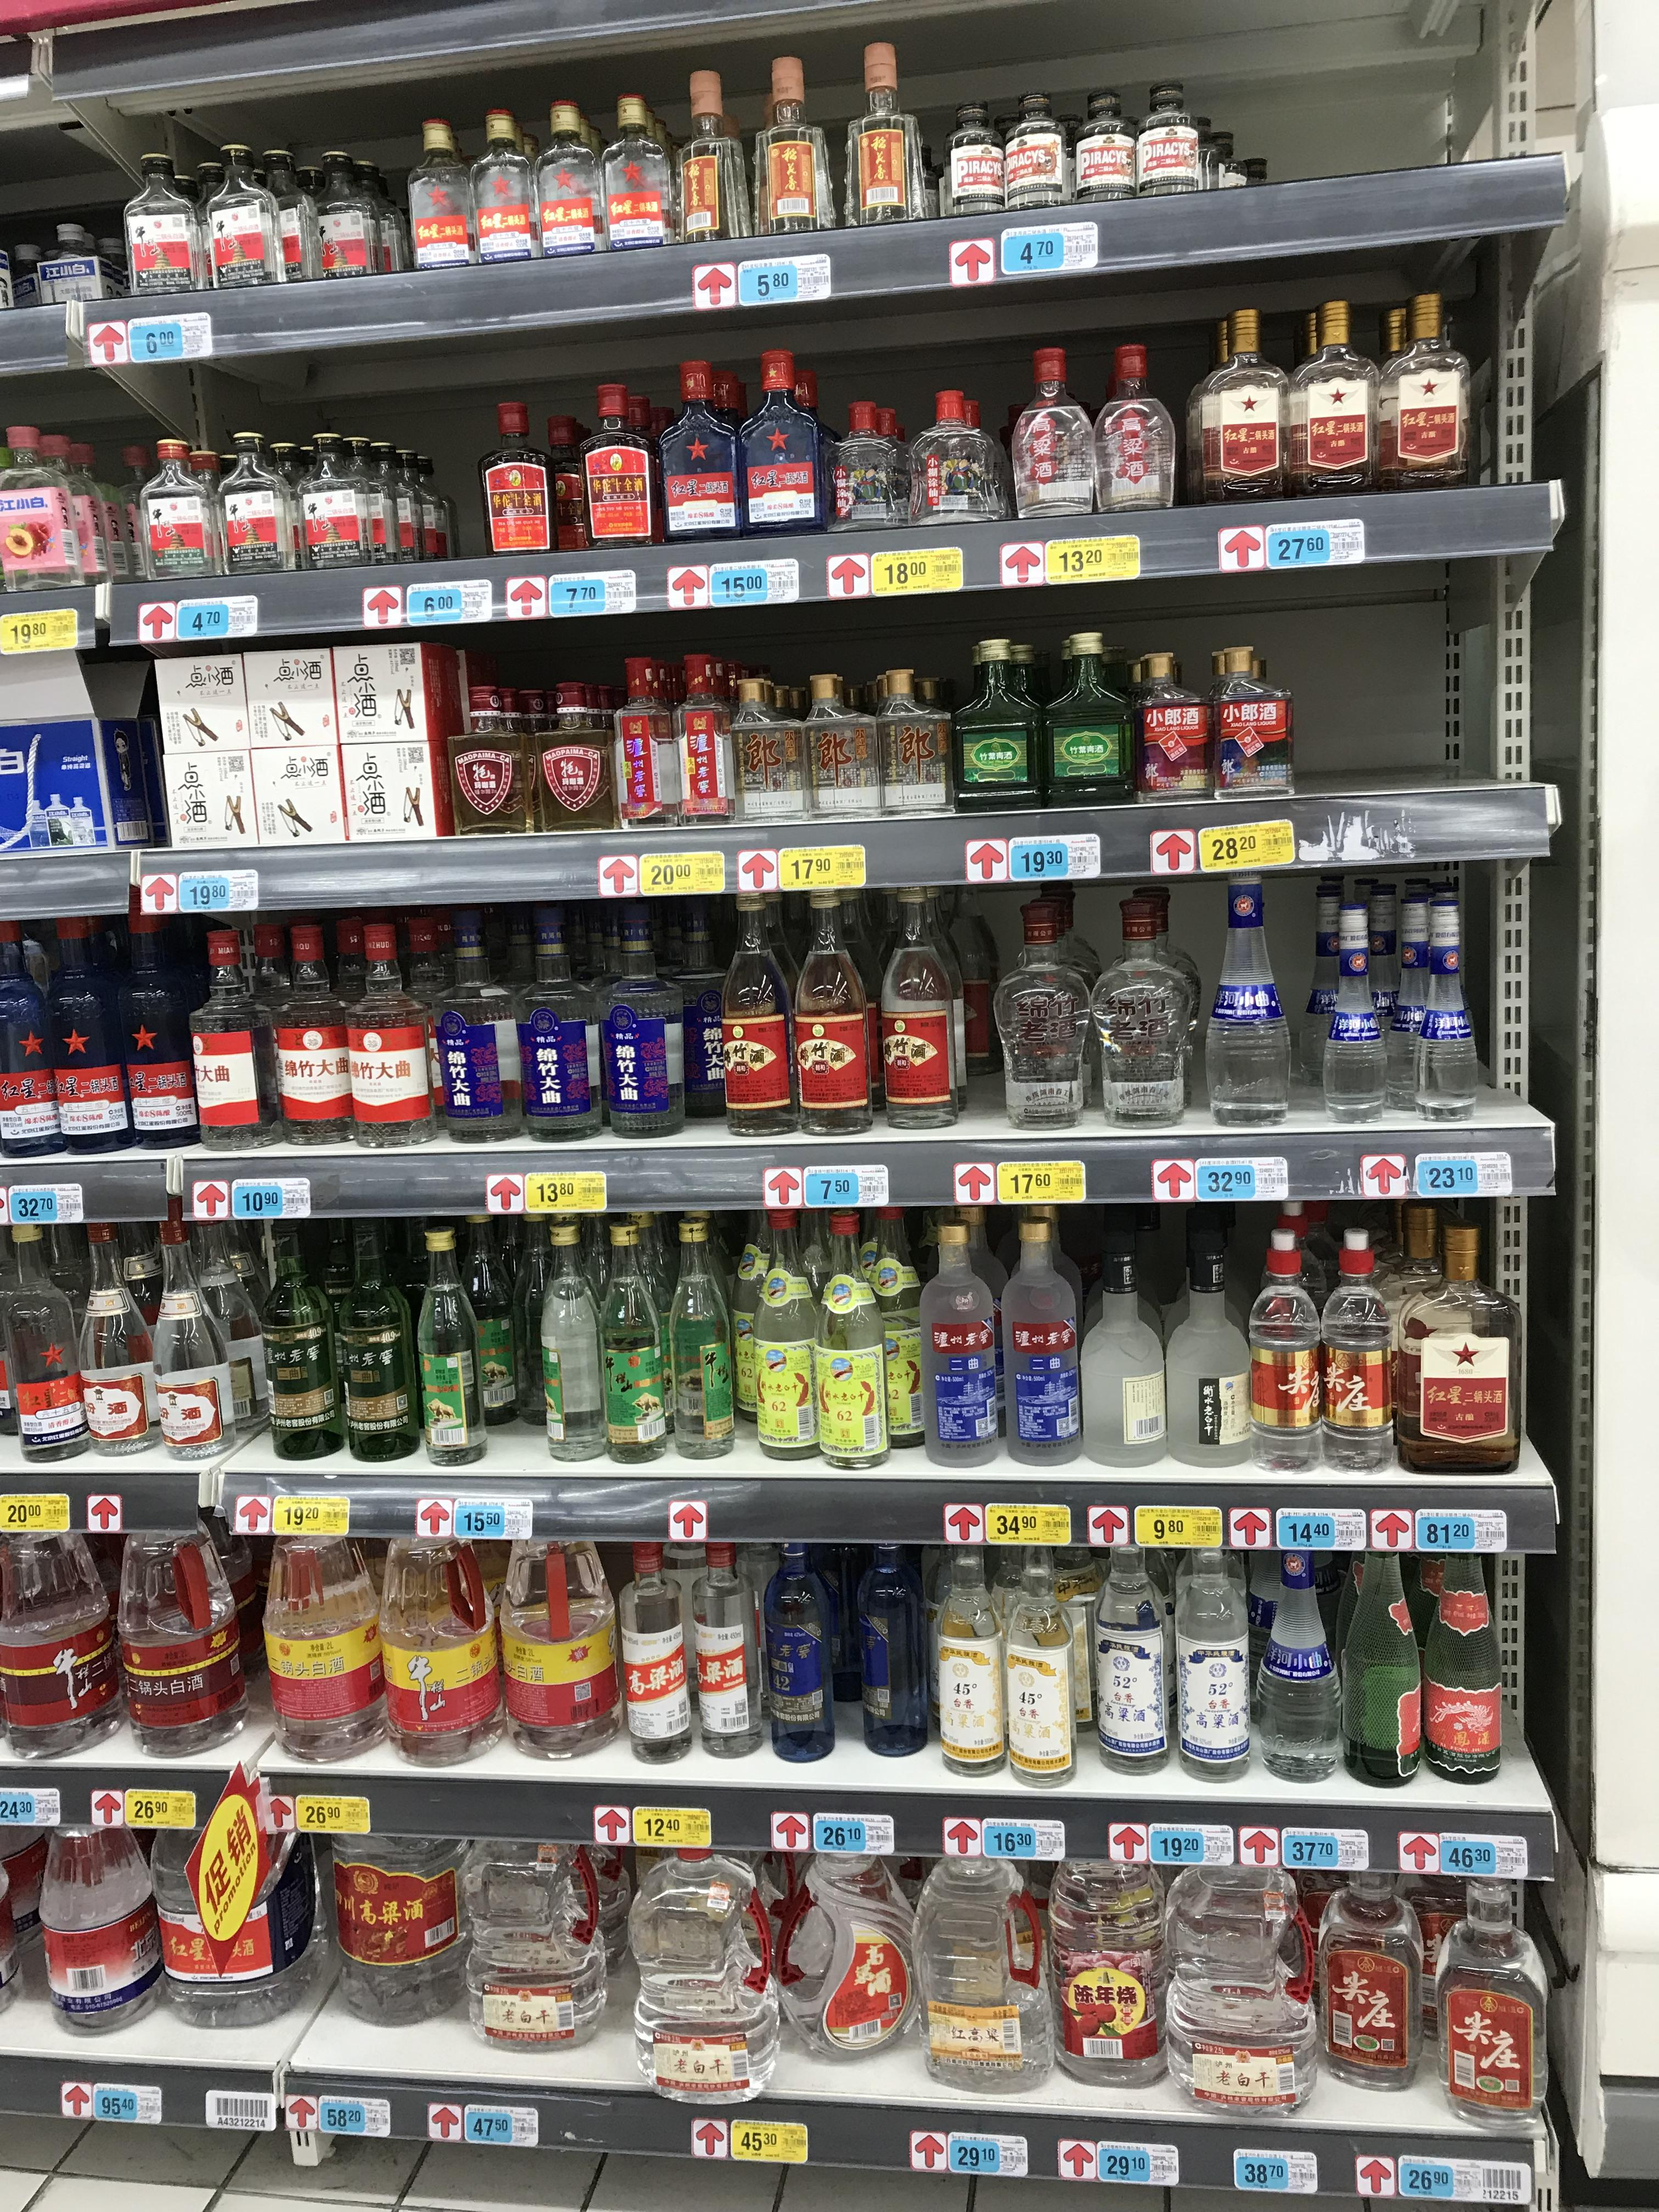bag: (774, 1832, 922, 2054), (119, 145, 211, 307)
bottle: (1168, 1841, 1316, 2111), (155, 1789, 319, 2026), (0, 1489, 120, 1761), (120, 1496, 246, 1750), (380, 1512, 507, 1761), (265, 1510, 389, 1752), (1051, 1834, 1171, 2083), (329, 1804, 465, 2024), (500, 1508, 617, 1757), (37, 1803, 160, 2033), (1427, 1890, 1544, 2121), (1408, 1224, 1511, 1477), (474, 1831, 599, 2033), (253, 1193, 345, 1460), (1310, 1862, 1420, 2083), (1087, 899, 1194, 1127), (159, 1211, 260, 1449), (1197, 880, 1293, 1129), (0, 1204, 92, 1456), (714, 867, 798, 1137), (335, 1204, 422, 1461), (509, 892, 598, 1143), (1337, 1536, 1424, 1791), (993, 906, 1091, 1132), (45, 916, 136, 1160), (791, 869, 873, 1137), (1253, 1534, 1340, 1785), (875, 873, 960, 1127), (918, 1212, 1004, 1463), (73, 1224, 167, 1451), (1171, 1514, 1249, 1782), (809, 1193, 885, 1467), (1002, 1214, 1086, 1461), (120, 913, 207, 1150), (596, 894, 680, 1137), (429, 902, 514, 1141), (1080, 1237, 1171, 1461), (1091, 1512, 1168, 1777), (530, 1207, 610, 1458), (596, 1211, 673, 1467), (1417, 1571, 1507, 1787), (749, 1195, 823, 1460), (857, 1197, 932, 1454), (345, 916, 430, 1141), (1171, 1219, 1249, 1463), (1004, 1519, 1075, 1785), (410, 1216, 486, 1461), (932, 1522, 1007, 1773), (619, 1519, 695, 1763), (856, 1519, 934, 1756), (1187, 312, 1281, 507), (690, 1514, 765, 1757), (760, 1519, 835, 1761), (664, 1209, 737, 1456), (727, 1200, 798, 1453), (1239, 1242, 1319, 1467), (1371, 294, 1462, 493), (666, 867, 737, 1118), (1317, 1237, 1394, 1470), (274, 921, 354, 1137), (192, 928, 272, 1143), (444, 1211, 516, 1447), (1284, 305, 1371, 498), (1396, 899, 1473, 1118), (737, 350, 824, 540), (1032, 1515, 1100, 1756), (1310, 900, 1384, 1122), (1037, 634, 1124, 810), (662, 361, 741, 549), (1089, 343, 1173, 519), (1011, 345, 1093, 524), (950, 644, 1035, 812), (847, 42, 922, 232), (2, 927, 61, 1163), (756, 59, 831, 239), (584, 381, 660, 556), (948, 887, 1012, 1087), (1358, 904, 1417, 1118), (477, 399, 554, 564), (608, 657, 680, 829), (678, 73, 749, 246), (139, 441, 223, 585), (0, 1797, 64, 1979), (871, 674, 951, 815), (0, 439, 71, 596), (599, 94, 671, 249), (471, 113, 542, 266), (922, 394, 1002, 529), (1134, 653, 1202, 813), (406, 120, 474, 280), (533, 105, 603, 258), (674, 658, 739, 824), (305, 153, 383, 287), (1215, 650, 1284, 796), (831, 404, 901, 533), (89, 448, 153, 585), (542, 406, 598, 559), (938, 101, 1009, 218)
box: (335, 620, 444, 852), (240, 625, 350, 855), (152, 631, 253, 850), (472, 1928, 599, 2052), (439, 697, 532, 841)
bucket: (631, 1839, 769, 2094), (911, 1831, 1042, 2087), (0, 3, 167, 59)
jar: (200, 145, 281, 296), (289, 437, 376, 575), (533, 686, 612, 834), (796, 676, 877, 817), (214, 437, 293, 578), (727, 681, 803, 822), (352, 448, 434, 568), (1133, 91, 1202, 206), (1002, 99, 1072, 211), (1070, 98, 1138, 207), (35, 225, 105, 324), (9, 233, 70, 320)
